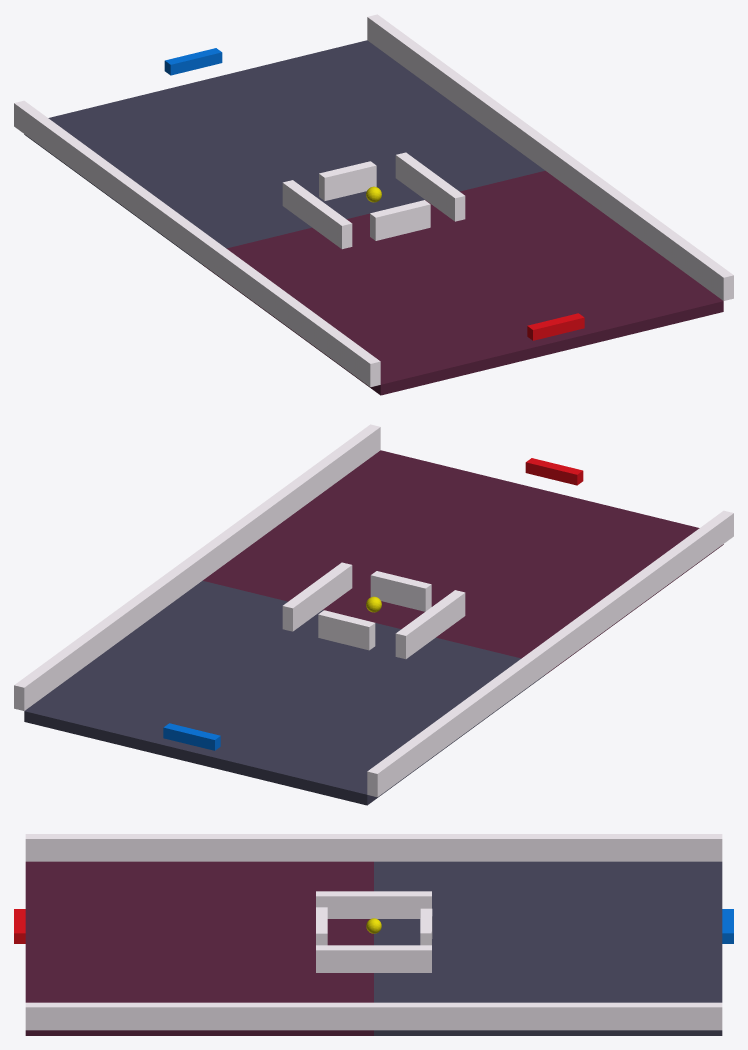
The model's file is pong2p-applied locations.fbx.
3 renders of one model, top to bottom at view 1: azimuth 30°, elevation 25°; view 2: azimuth 150°, elevation 25°; view 3: azimuth 270°, elevation 25°, orthographic. The views are drawn at different scales.
Visible parts, largest first — view 1: court2, court1, boundary2, boundary1, box.004, box.005, box.006, box.007, paddle2, paddle1; view 2: court1, court2, boundary2, boundary1, box.004, box.005, box.006, box.007, paddle1, paddle2; view 3: court1, court2, boundary1, boundary2, box.005, box.004, box.007, box.006, paddle1, paddle2.
Boxes of the visible parts, x1,y1,x2,y2 form: court2: (203, 170, 723, 395); court1: (24, 40, 544, 264); boundary2: (14, 100, 380, 387); boundary1: (367, 14, 733, 300); box.004: (282, 180, 352, 249); box.005: (395, 152, 465, 221); box.006: (370, 200, 430, 240); box.007: (319, 161, 376, 200); paddle2: (164, 48, 222, 75); paddle1: (527, 313, 584, 340); court1: (24, 580, 544, 805); court2: (203, 450, 723, 674); boundary2: (367, 510, 733, 797); boundary1: (14, 424, 380, 710); box.004: (395, 590, 465, 659); box.005: (282, 562, 352, 631); box.006: (370, 571, 431, 611); box.007: (318, 610, 375, 650); paddle1: (525, 458, 583, 485); paddle2: (163, 723, 220, 750); court1: (374, 861, 722, 1035); court2: (25, 861, 373, 1035); boundary1: (25, 1002, 722, 1030); boundary2: (25, 834, 722, 861); box.005: (316, 945, 431, 972); box.004: (316, 891, 431, 918); box.007: (420, 908, 432, 945); box.006: (316, 907, 327, 945); paddle1: (14, 909, 25, 943); paddle2: (722, 909, 733, 943).
Size of the model in its own units: 1060 by 100 by 1860.
